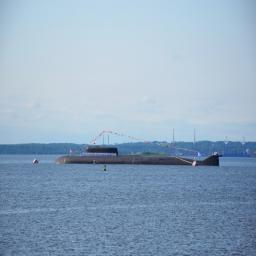submarine: (54, 147, 221, 165)
